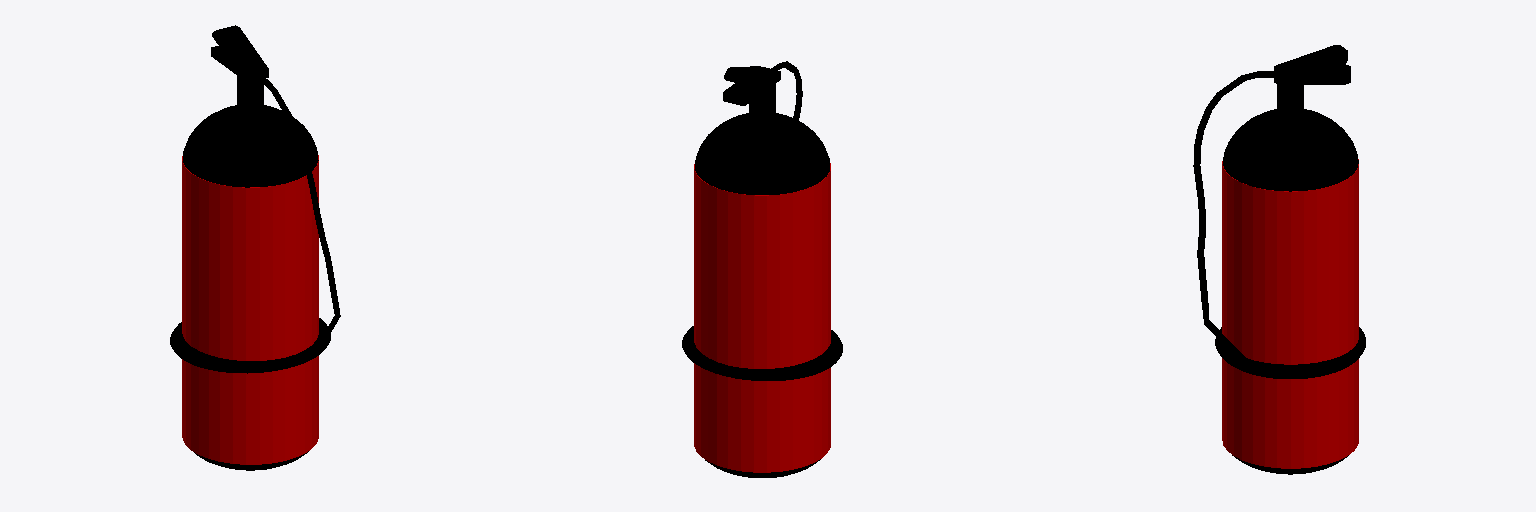
Rendered from Extinguisher.obj.
3 renders of one model, left to right at view 1: azimuth 30°, elevation 25°; view 2: azimuth 150°, elevation 25°; view 3: azimuth 270°, elevation 25°, orthographic.
Parts seen in each view (by area): view 1: Cylinder, Sphere.001_Sphere.002; view 2: Cylinder, Sphere.001_Sphere.002; view 3: Cylinder, Sphere.001_Sphere.002.
Boxes of the visible parts, x1=… form: Cylinder: x1=182, y1=155, x2=318, y2=464; Sphere.001_Sphere.002: x1=170, y1=25, x2=340, y2=373; Cylinder: x1=694, y1=163, x2=830, y2=472; Sphere.001_Sphere.002: x1=682, y1=61, x2=842, y2=380; Cylinder: x1=1222, y1=159, x2=1358, y2=468; Sphere.001_Sphere.002: x1=1193, y1=45, x2=1365, y2=378.
Bounding box in the file's own units: 2.41 × 6.64 × 2.52.